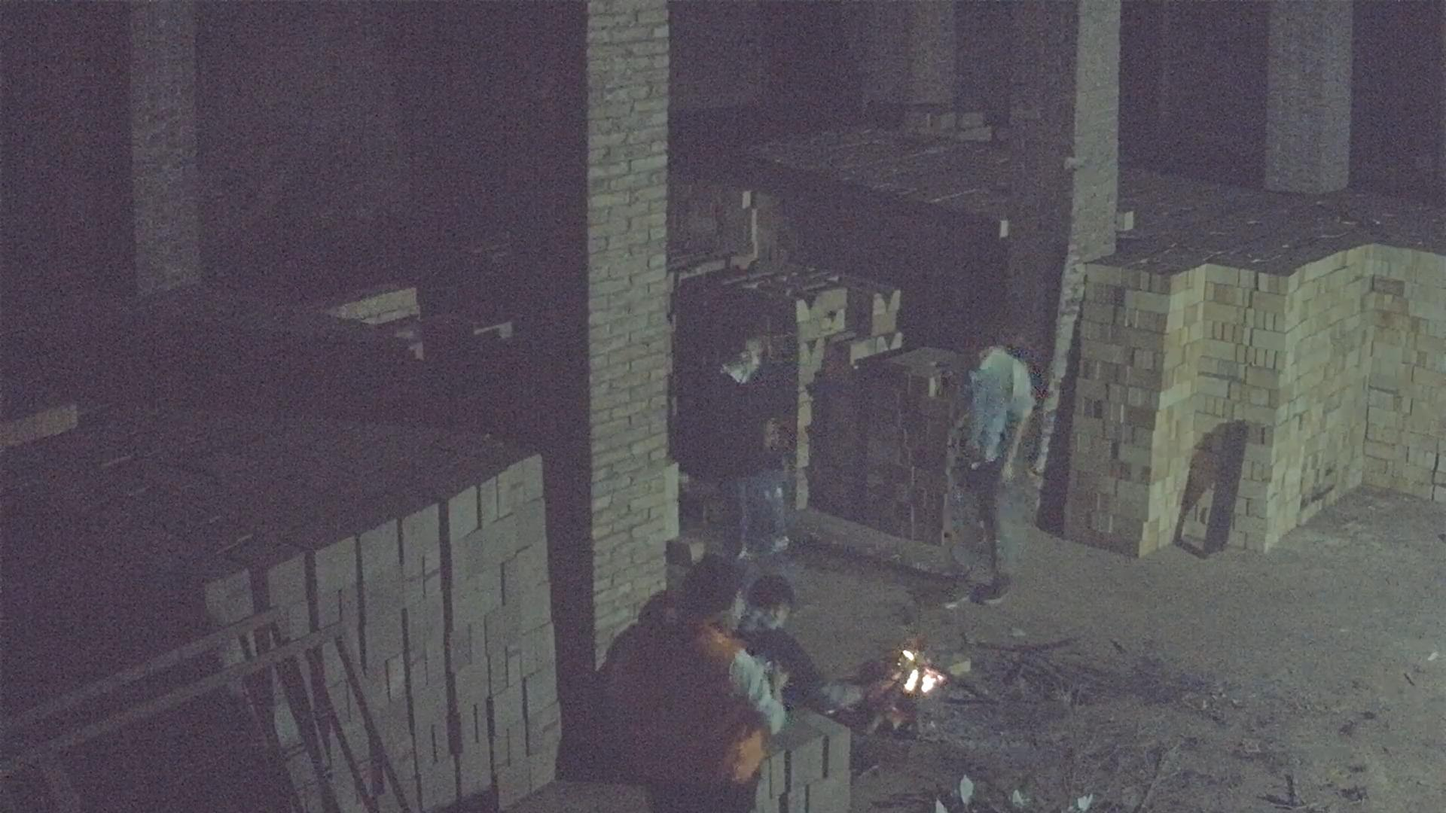fire: (892, 649, 945, 693)
